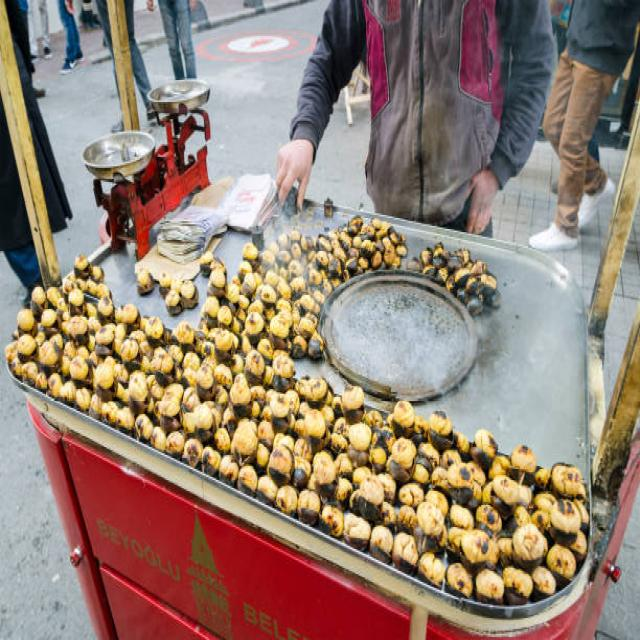Emperan: (7, 72, 640, 639)
